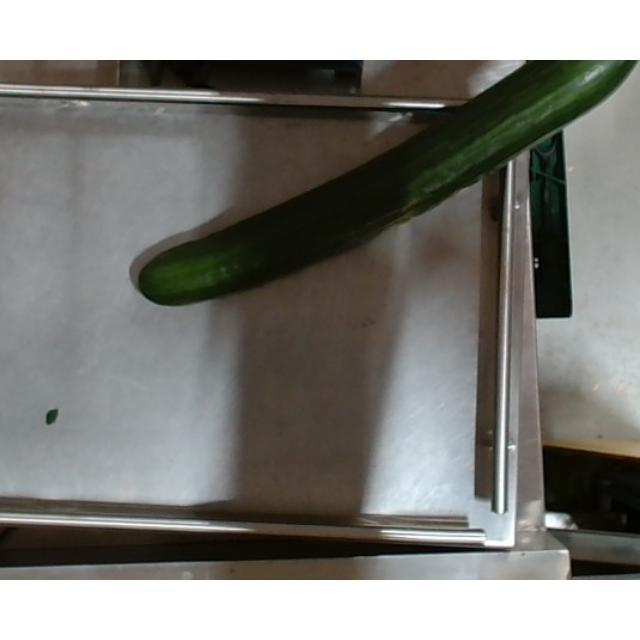cucumber: (138, 63, 636, 307)
